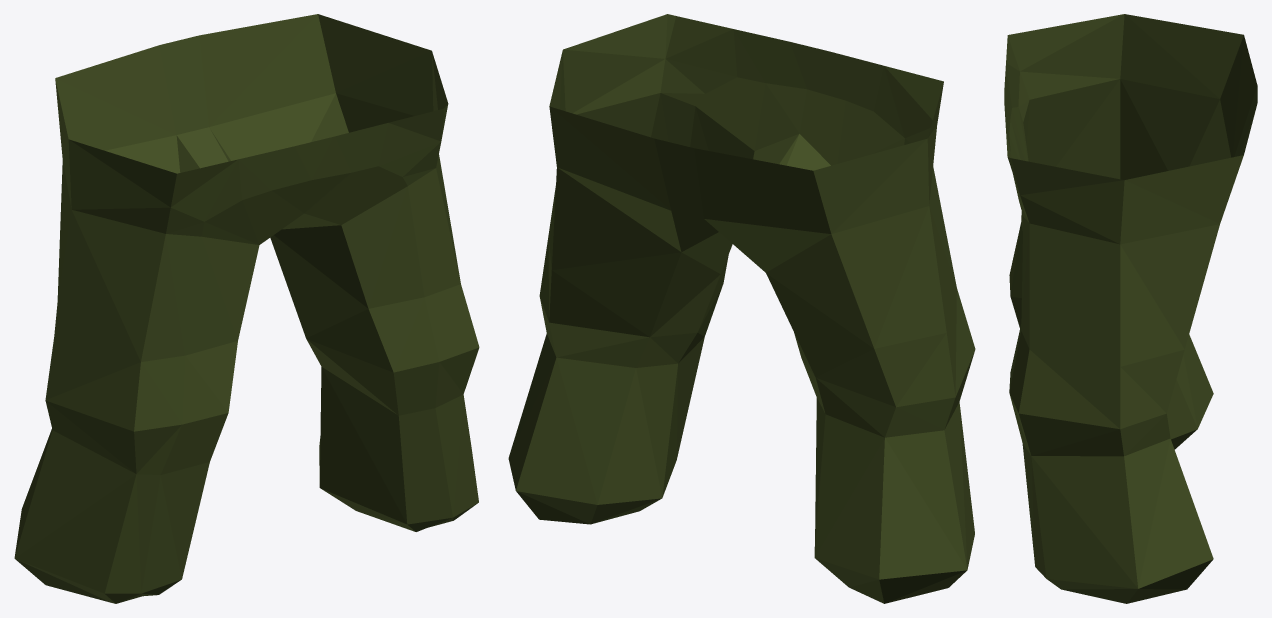
File: ArcherLegs.dae
3 renders of one model, left to right at view 1: azimuth 30°, elevation 25°; view 2: azimuth 150°, elevation 25°; view 3: azimuth 270°, elevation 25°, orthographic. The views are drawn at different scales.
Parts seen in each view (by area): view 1: Pants; view 2: Pants; view 3: Pants.
Part boxes in pixels (x1=…): Pants: x1=14, y1=14, x2=479, y2=603; Pants: x1=508, y1=14, x2=975, y2=603; Pants: x1=1004, y1=14, x2=1257, y2=603.
Bounding box in the file's own units: 2.73 × 1.4 × 2.54.
